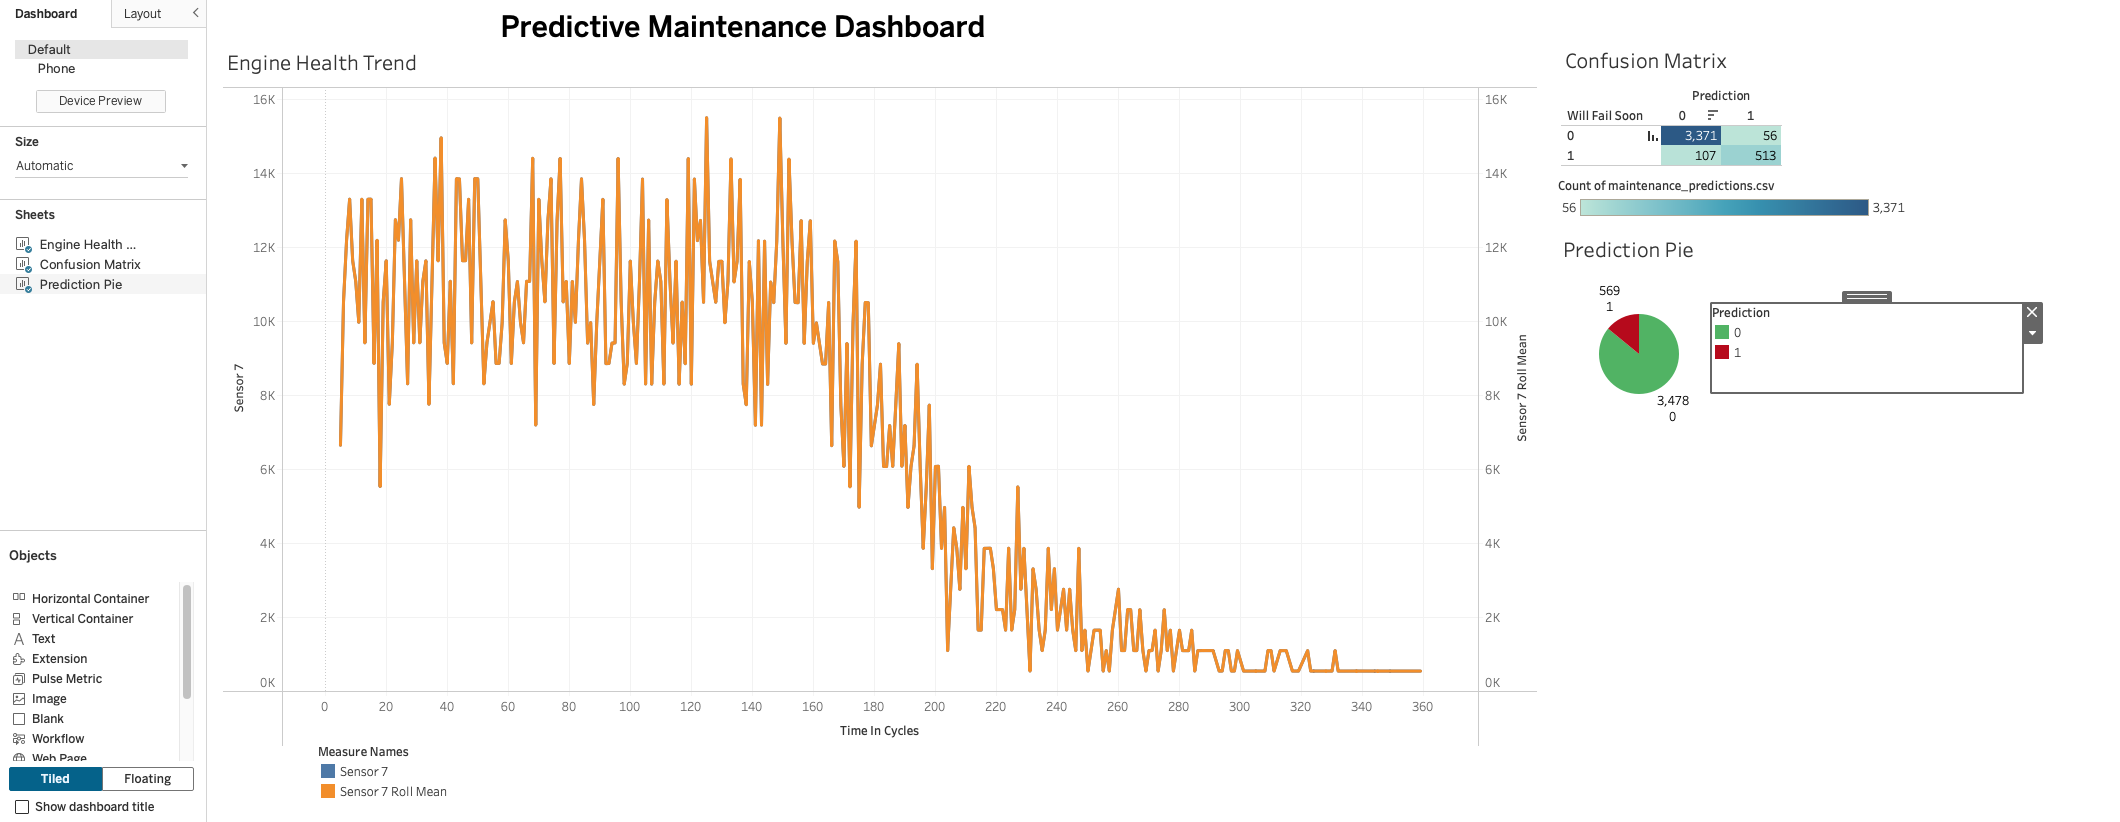

Layout of this report page (visuals, bound fields, positions):
{"tool":"tableau","page":{"name":"Dashboard 1","canvas":[1000,1000],"units":"permille","ordinal":0},"visuals":[{"type":"text","box":[151.9,14.1,345,39.8]},{"type":"worksheet","title":"Engine Health Trend","mark":"Automatic","rows":["sensor_7","sensor_7_roll_mean"],"cols":["time_in_cycles"],"box":[8.6,54.7,686.6,854.2]},{"type":"legend","title":"Confusion Matrix","param":"[federated.175yzpy09q07nd10n5oip1k8a2pv].[__tableau_internal_object_id__].[cnt:m","box":[705.6,216.3,183.7,97.2]},{"type":"legend","title":"Prediction Pie","param":"[federated.175yzpy09q07nd10n5oip1k8a2pv].[none:prediction:ok]","box":[785.8,370.6,162.2,106.9]},{"type":"legend","title":"Engine Health Trend","param":"[federated.175yzpy09q07nd10n5oip1k8a2pv].[:Measure Names]","box":[58.1,903.7,141.1,83.4]}]}

Visuals, with their boxes on the dashboard's canvas, which has no fixed pixel size, in thousandths of its width and height (x1, y1, x2, y2). These are canvas units, not pixel positions in the 2120x822 screenshot, which may show the page scaled, cropped or inside an application window:
text: [152, 14, 497, 54]
"Engine Health Trend" worksheet: [9, 55, 695, 909]
"Confusion Matrix" legend: [706, 216, 889, 314]
"Prediction Pie" legend: [786, 371, 948, 478]
"Engine Health Trend" legend: [58, 904, 199, 987]
